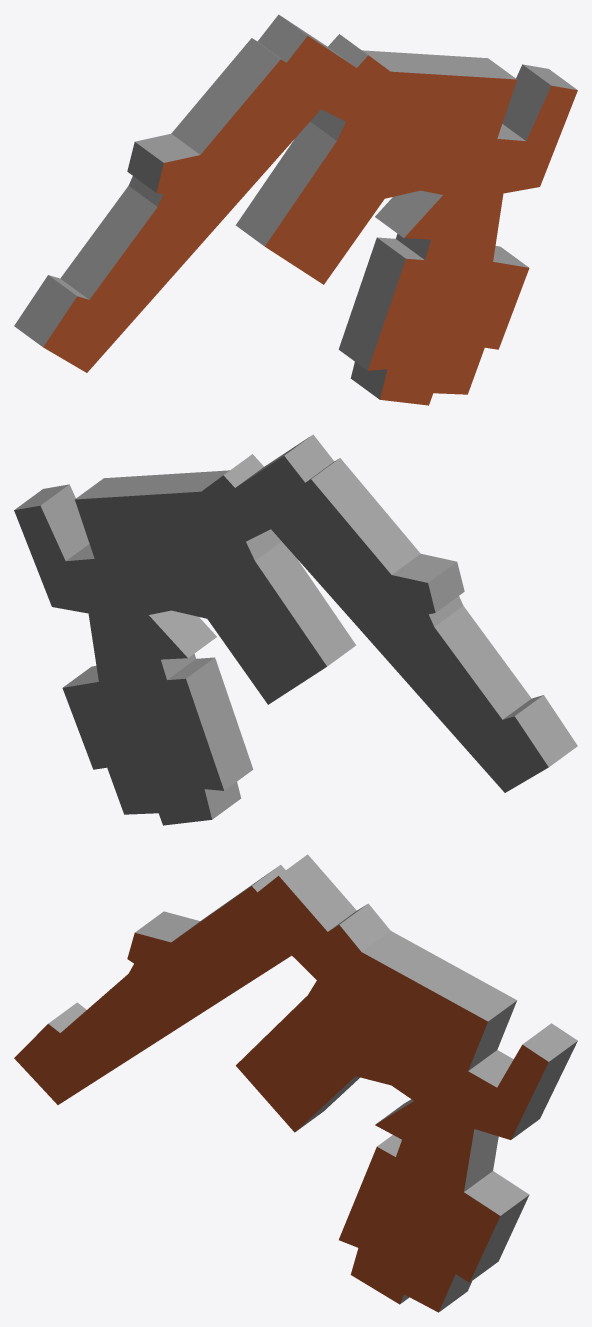
The model's file is construction_0781_assumed_A_Casa_h6m.obj.
The picture shows the model from 3 angles, top to bottom: view 1: azimuth 30°, elevation 25°; view 2: azimuth 150°, elevation 25°; view 3: azimuth 330°, elevation 25°; orthographic projection.
Parts seen in each view (by area): view 1: construction_0781_assumed_A_Casa; view 2: construction_0781_assumed_A_Casa; view 3: construction_0781_assumed_A_Casa.
Part boxes in pixels (<box>): construction_0781_assumed_A_Casa: <box>14,14,577,405</box>; construction_0781_assumed_A_Casa: <box>14,434,577,825</box>; construction_0781_assumed_A_Casa: <box>14,854,577,1312</box>.
Size of the model in its own units: 63.6 by 45.38 by 6.
